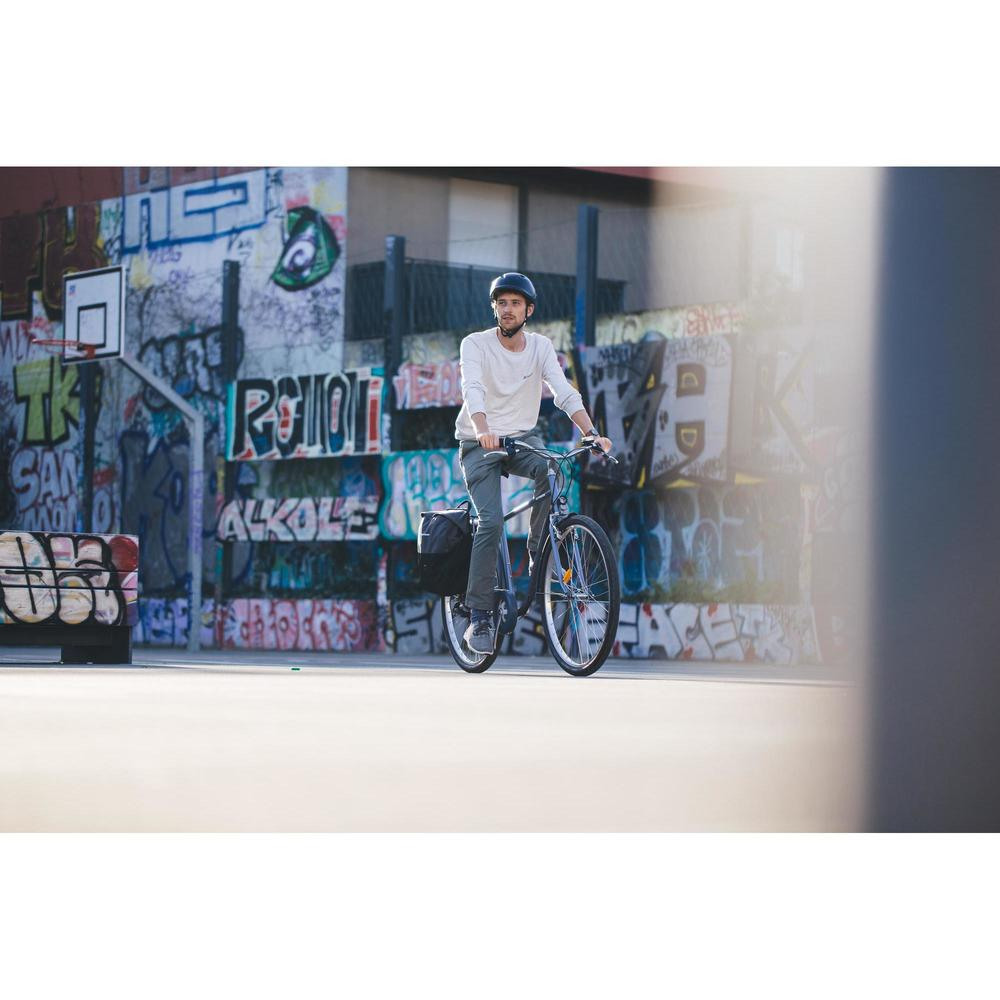UrbanBike: (439, 440, 621, 681)
